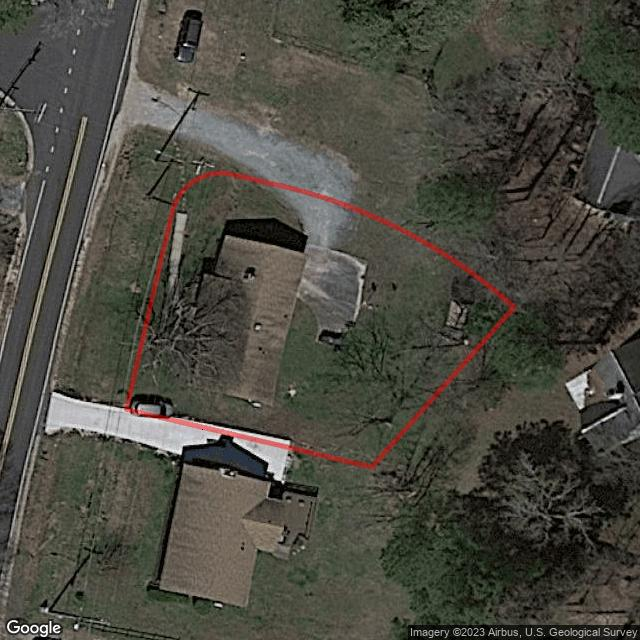Driveway: (282, 191, 352, 247)
Extra Driveway: (179, 109, 354, 201), (123, 81, 189, 129)
Extra Lawn: (58, 129, 223, 400)
House: (187, 236, 308, 410)
Other: (445, 300, 470, 329)
Sidewalk: (298, 245, 366, 337)
